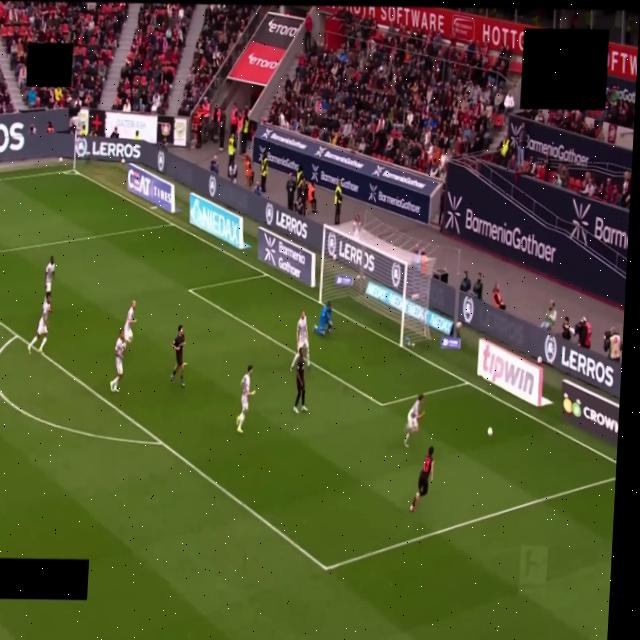ball: (487, 428, 492, 436)
player: (410, 447, 433, 512), (28, 294, 51, 352), (237, 365, 255, 433), (290, 311, 310, 372), (404, 395, 424, 446), (110, 330, 126, 393), (294, 349, 307, 413), (172, 325, 185, 386), (314, 301, 332, 335), (124, 300, 136, 343), (45, 257, 54, 296)
